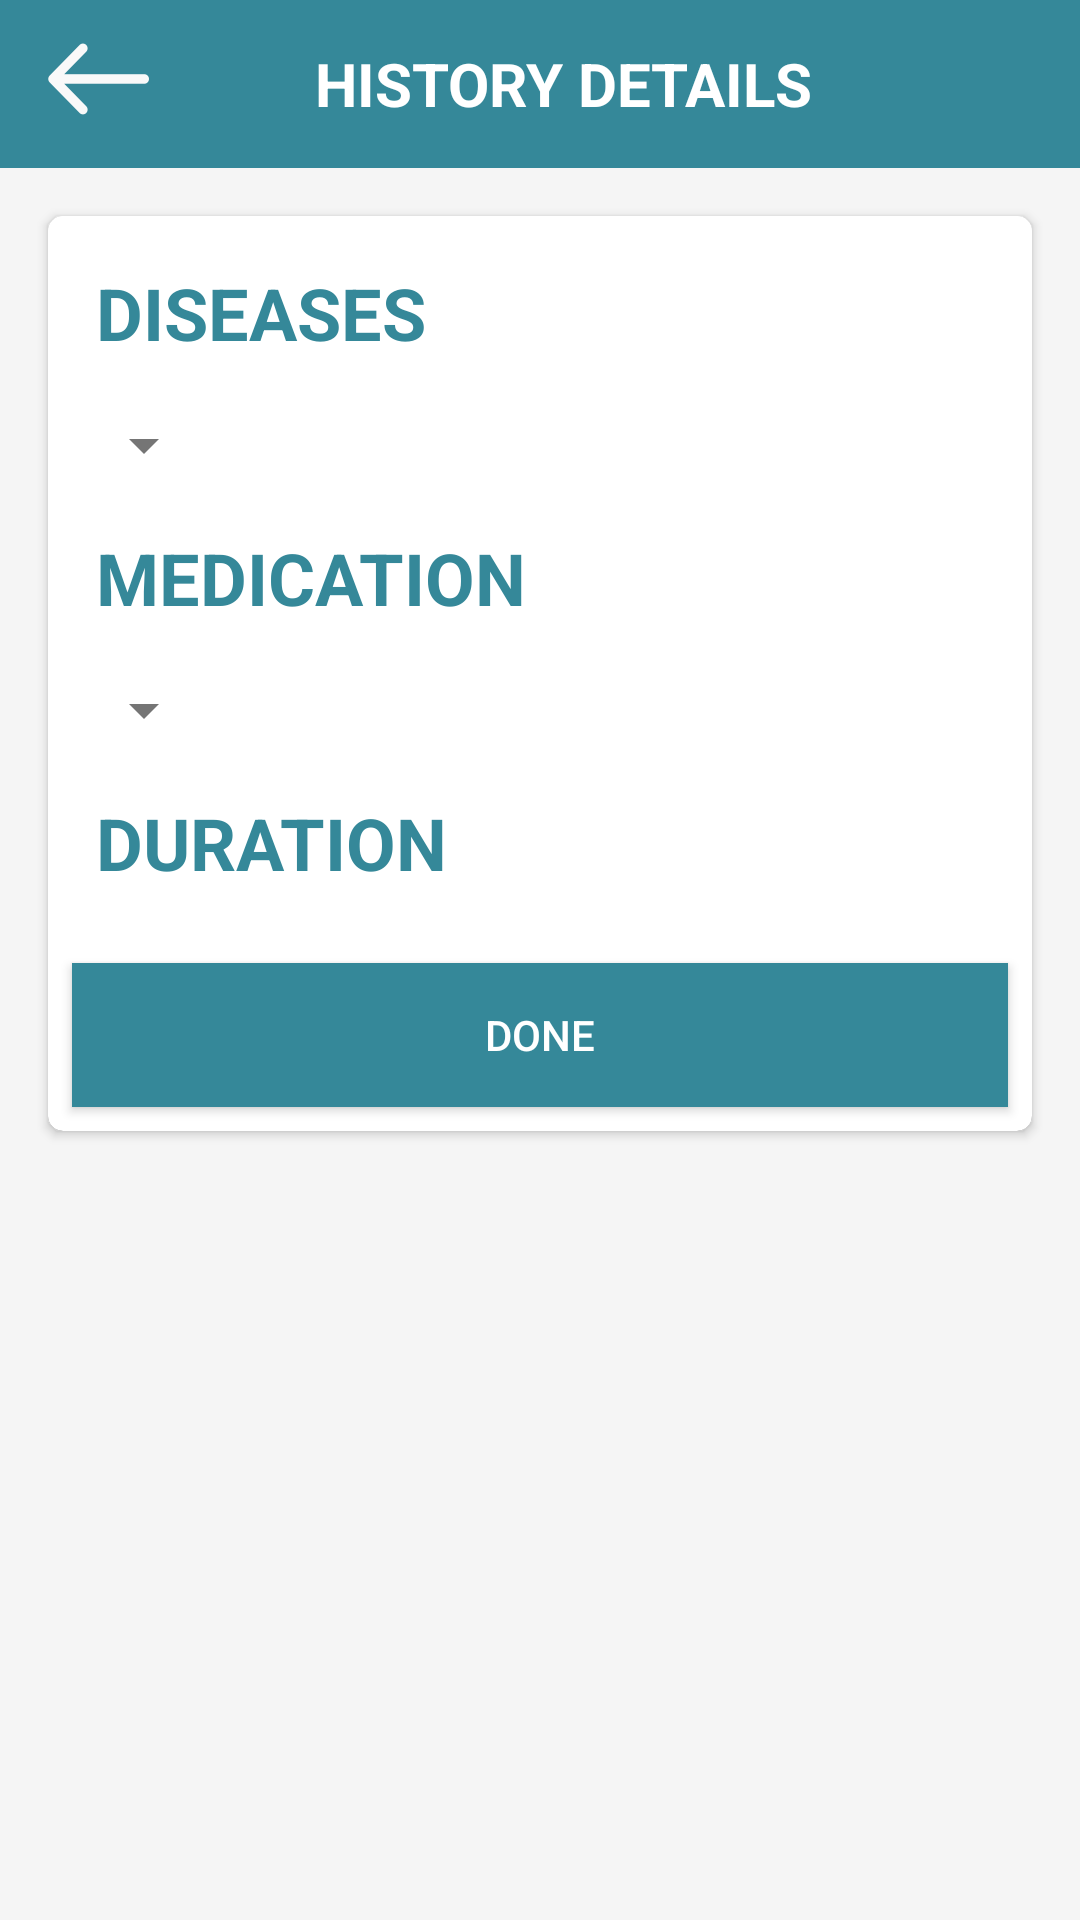

Icons on this 1080*1920 Android screen, each with the point to tap as [x,y]:
Back Button: [98,79]
